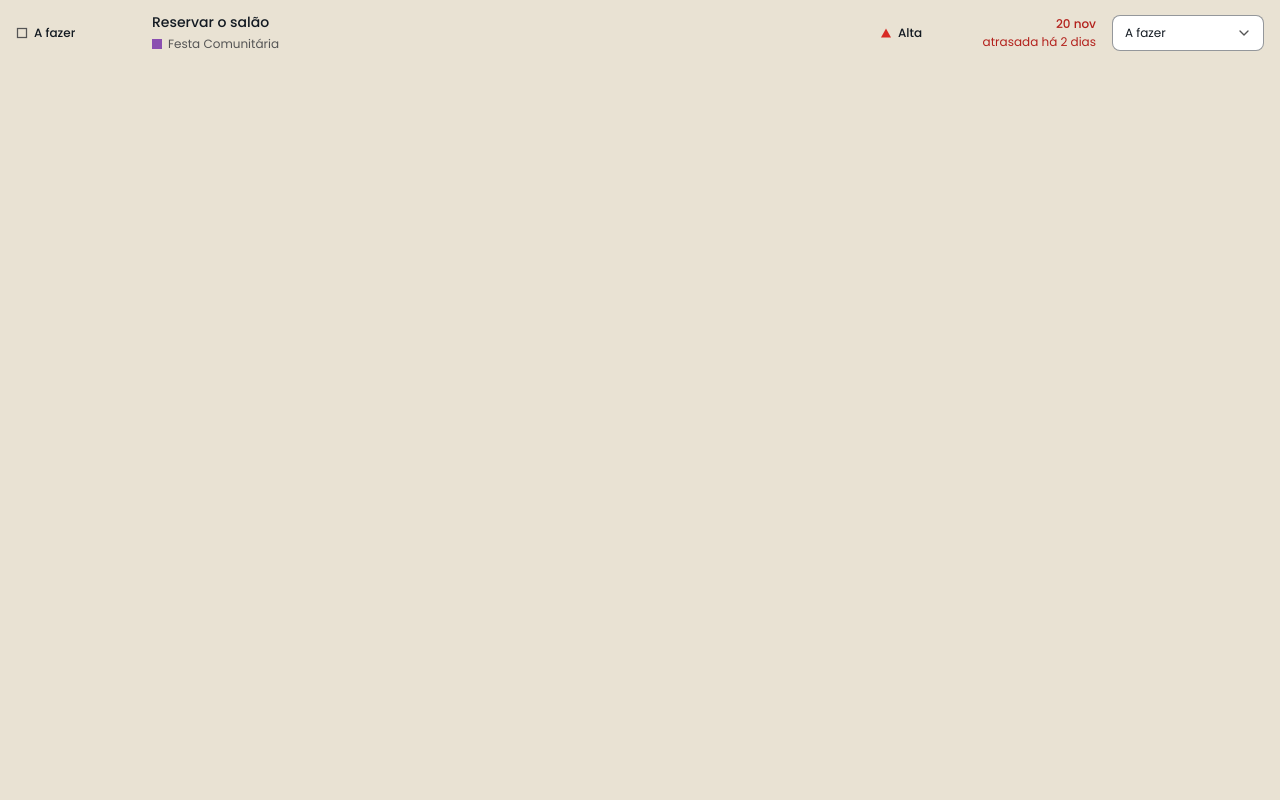
Test: TaskRow › says "Status atualizado" for a move that does not finish the task
Select "Em andamento" in the dropdown named "Status de Reservar o salão" at point(1188, 32), box [1112, 14, 1264, 50]
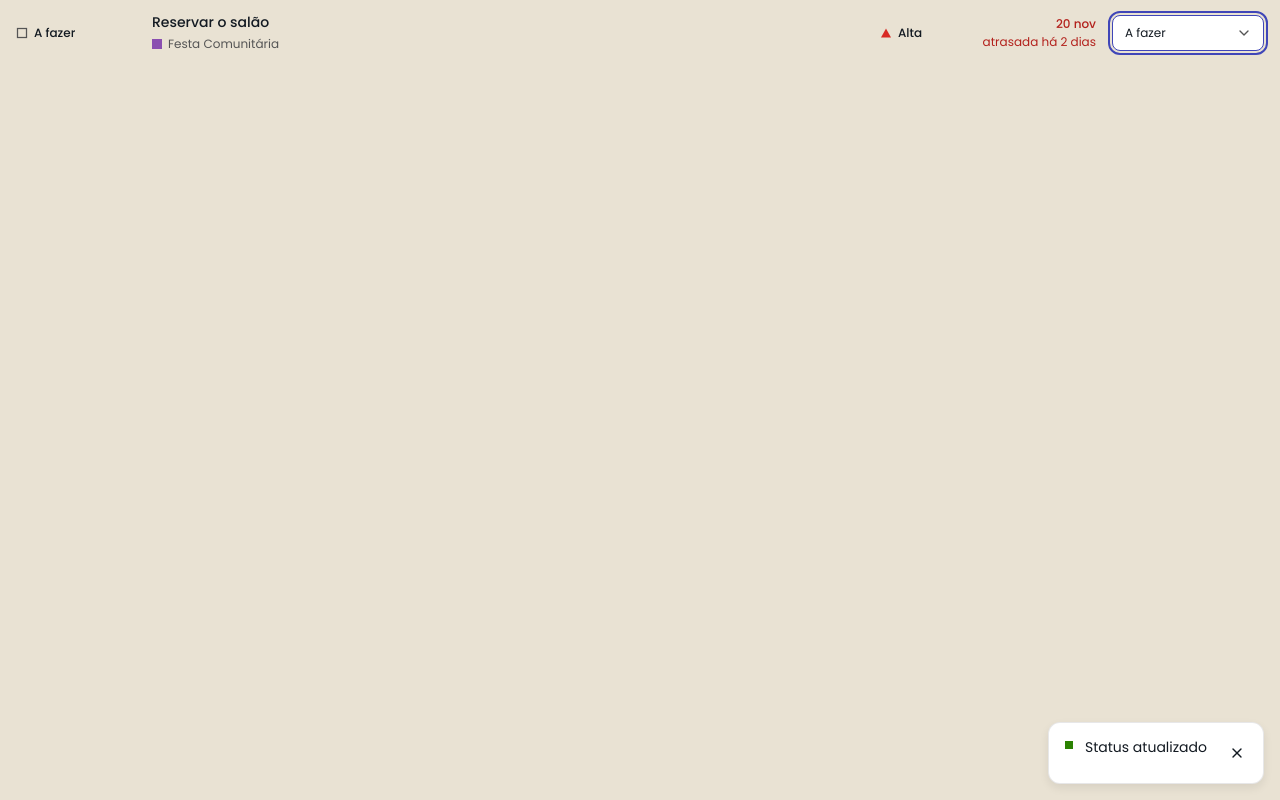
Expected: the text "Status atualizado" is shown, [1085, 735, 1207, 758]
